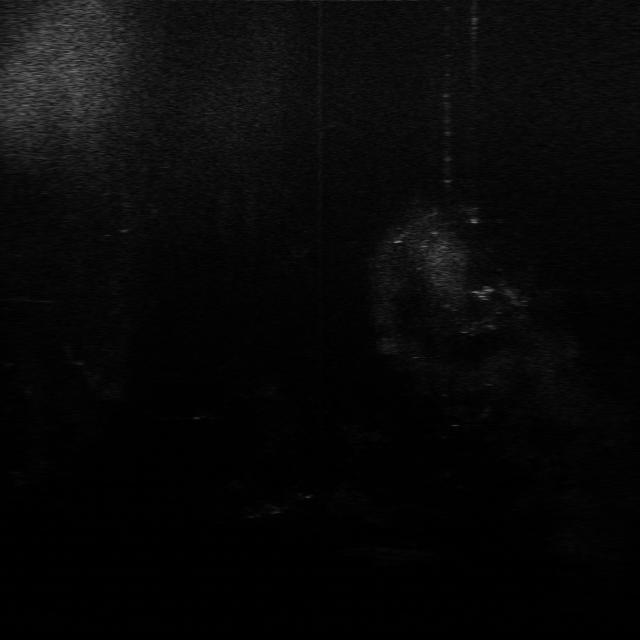rov: (467, 285, 498, 304)
